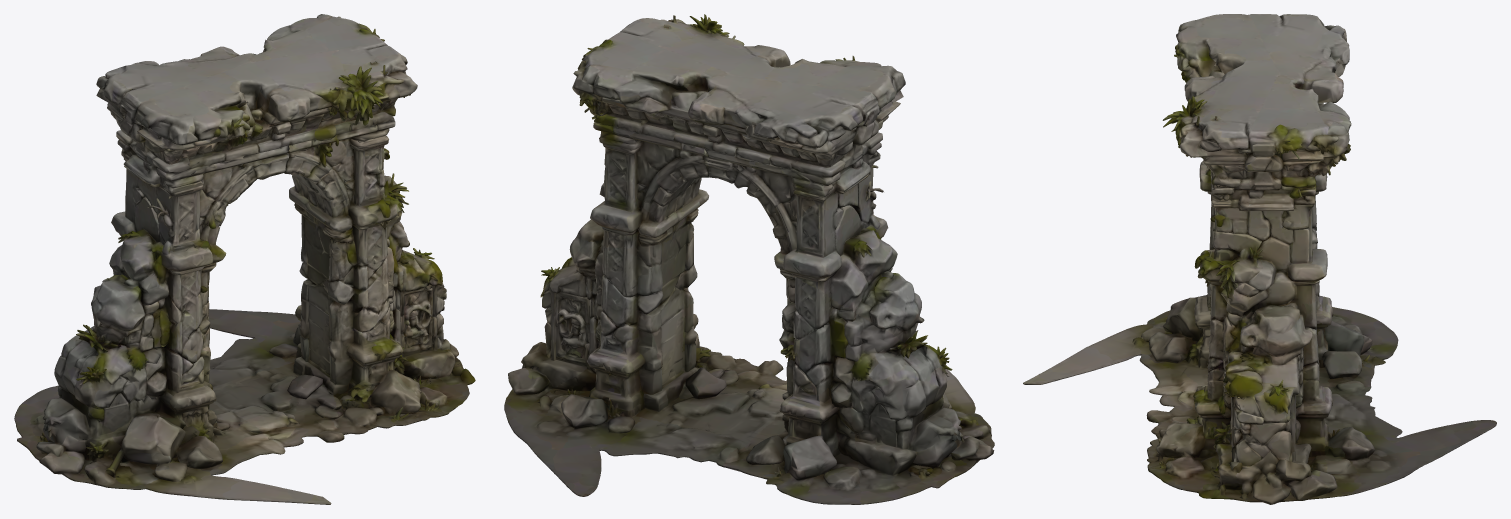
File: ancient-stone-gate.glb
3 views of the same model, side by side, from view 1: azimuth 30°, elevation 25°; view 2: azimuth 150°, elevation 25°; view 3: azimuth 270°, elevation 25° (orthographic). The views are drawn at different scales.
Parts seen in each view (by area): view 1: tripo_node_7554d447_tripo_mat_7554d447_0_21; view 2: tripo_node_7554d447_tripo_mat_7554d447_0_21; view 3: tripo_node_7554d447_tripo_mat_7554d447_0_21.
Part boxes in pixels (x1,y1,x2,y2): tripo_node_7554d447_tripo_mat_7554d447_0_21: (14, 14, 475, 504); tripo_node_7554d447_tripo_mat_7554d447_0_21: (504, 14, 994, 504); tripo_node_7554d447_tripo_mat_7554d447_0_21: (1023, 14, 1496, 504).
Bounding box in the file's own units: 0.9794 × 0.7437 × 0.934.
1 material, 1 textured.
